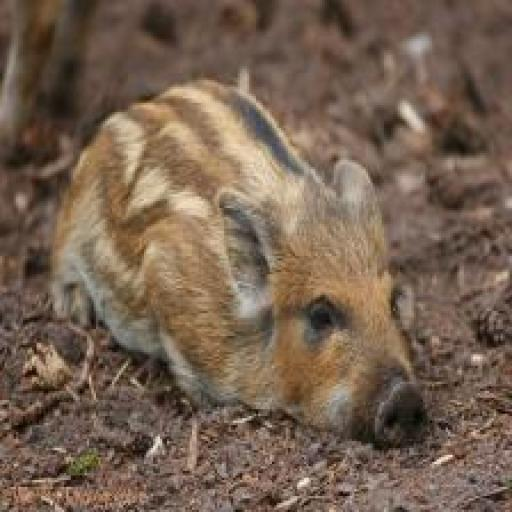Pig: (55, 80, 430, 446)
